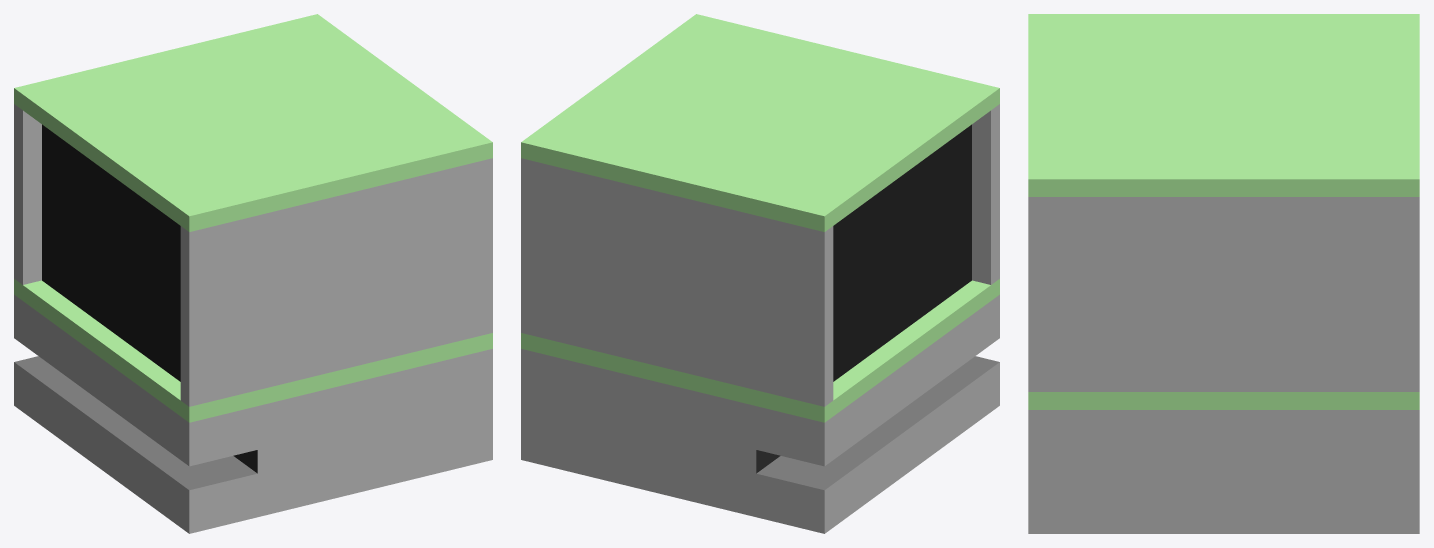
File: Time_punch.fbx
The picture shows the model from 3 angles, left to right: view 1: azimuth 30°, elevation 25°; view 2: azimuth 150°, elevation 25°; view 3: azimuth 270°, elevation 25°; orthographic projection. The views are drawn at different scales.
Visible parts, largest first — view 1: cube_6, cube_4, cube, cube_7, cube_2, cube_3, cube_1, cube_5; view 2: cube_6, cube_5, cube, cube_7, cube_2, cube_3, cube_1, cube_4; view 3: cube_6, cube_8, cube, cube_2, cube_1, cube_3, cube_4, cube_5.
Boxes of the visible parts, bbox=[...] form: cube_6: bbox=[14, 14, 492, 231]; cube_4: bbox=[180, 158, 492, 406]; cube: bbox=[14, 356, 492, 533]; cube_7: bbox=[42, 124, 180, 381]; cube_2: bbox=[14, 294, 492, 466]; cube_3: bbox=[14, 279, 492, 422]; cube_1: bbox=[233, 392, 492, 473]; cube_5: bbox=[14, 104, 41, 284]; cube_6: bbox=[521, 14, 999, 231]; cube_5: bbox=[521, 158, 833, 406]; cube: bbox=[521, 356, 999, 533]; cube_7: bbox=[833, 124, 971, 381]; cube_2: bbox=[521, 294, 999, 466]; cube_3: bbox=[521, 279, 999, 422]; cube_1: bbox=[521, 392, 780, 473]; cube_4: bbox=[972, 104, 999, 284]; cube_6: bbox=[1028, 14, 1419, 196]; cube_8: bbox=[1048, 197, 1399, 391]; cube: bbox=[1028, 485, 1419, 533]; cube_2: bbox=[1028, 410, 1419, 458]; cube_1: bbox=[1028, 458, 1419, 485]; cube_3: bbox=[1028, 392, 1419, 409]; cube_4: bbox=[1028, 197, 1047, 391]; cube_5: bbox=[1400, 197, 1419, 391].
Size of the model in its own units: 12.5 by 12.5 by 12.5.
Materials: 1 (1 with a texture image).
